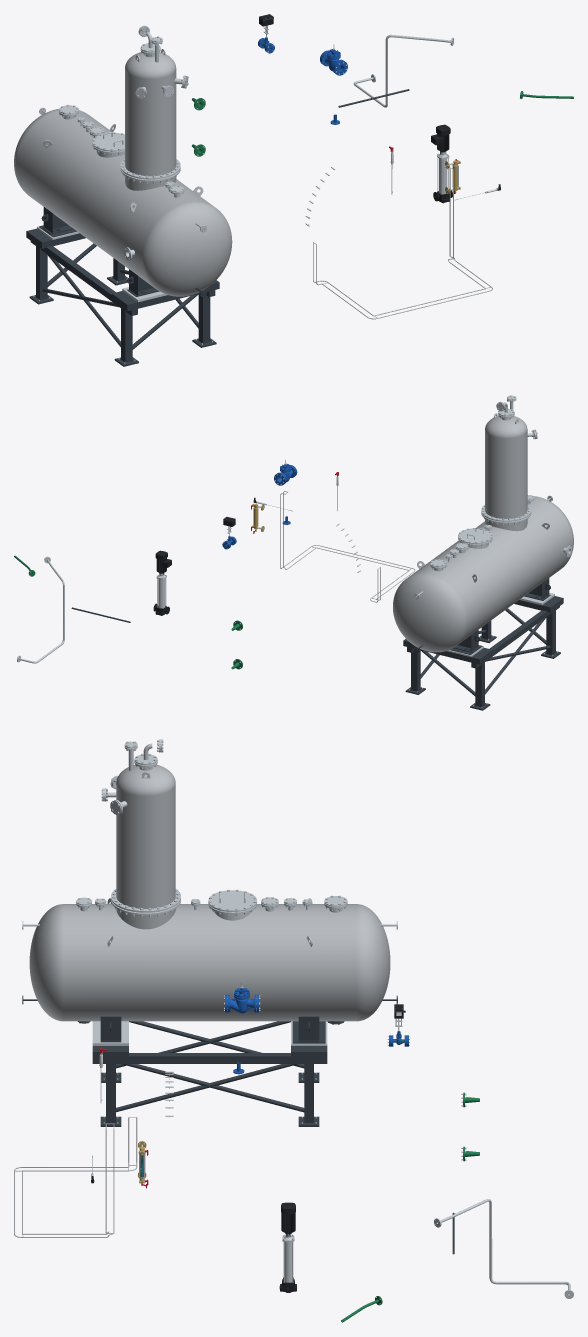
The picture shows the model from 3 angles, top to bottom: view 1: azimuth 30°, elevation 25°; view 2: azimuth 150°, elevation 25°; view 3: azimuth 270°, elevation 25°; orthographic projection. The views are drawn at different scales.
Parts seen in each view (by area): view 1: deaerator CAD solid 56, deaerator_support / dark, deaerator CAD solid 257, cables / zinc, trap_gap_to_bdv / steel, deaerator CAD solid 408; view 2: deaerator CAD solid 56, deaerator_support / dark, deaerator CAD solid 257, cables / zinc, deaerator CAD solid 408; view 3: deaerator CAD solid 56, deaerator CAD solid 257, deaerator_support / dark, cables / zinc, trap_gap_to_bdv / steel, deaerator CAD solid 408, deaerator_support / steel.
Boxes of the visible parts, x1=… form: deaerator CAD solid 56: x1=14, y1=109, x2=232, y2=296; deaerator_support / dark: x1=26, y1=228, x2=219, y2=366; deaerator CAD solid 257: x1=125, y1=52, x2=176, y2=176; cables / zinc: x1=313, y1=165, x2=492, y2=319; trap_gap_to_bdv / steel: x1=353, y1=34, x2=453, y2=107; deaerator CAD solid 408: x1=92, y1=132, x2=124, y2=151; deaerator CAD solid 56: x1=393, y1=496, x2=573, y2=652; deaerator_support / dark: x1=403, y1=596, x2=563, y2=710; deaerator CAD solid 257: x1=485, y1=416, x2=527, y2=518; cables / zinc: x1=280, y1=491, x2=415, y2=602; deaerator CAD solid 408: x1=458, y1=528, x2=492, y2=543; deaerator CAD solid 56: x1=29, y1=904, x2=390, y2=1021; deaerator CAD solid 257: x1=116, y1=764, x2=175, y2=908; deaerator_support / dark: x1=92, y1=1021, x2=327, y2=1126; cables / zinc: x1=14, y1=1117, x2=137, y2=1237; trap_gap_to_bdv / steel: x1=434, y1=1199, x2=573, y2=1298; deaerator CAD solid 408: x1=208, y1=890, x2=256, y2=911; deaerator_support / steel: x1=92, y1=1021, x2=327, y2=1123.
Bounding box in the file's own units: 9.07 × 4.82 × 6.78.
